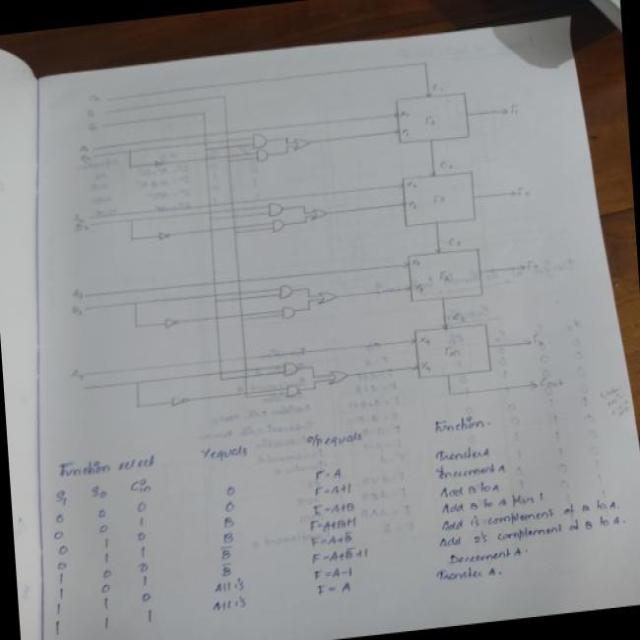Figure Detection - v3 Dataset Version2: (46, 38, 572, 450)
